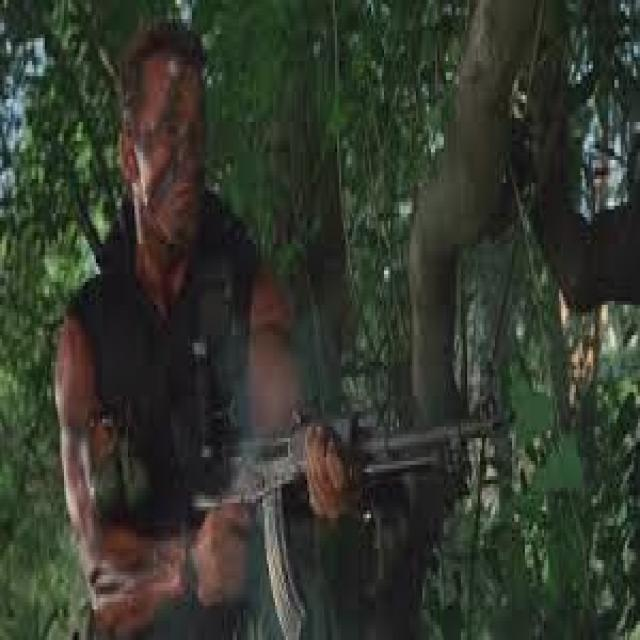weapon: (162, 406, 502, 640)
